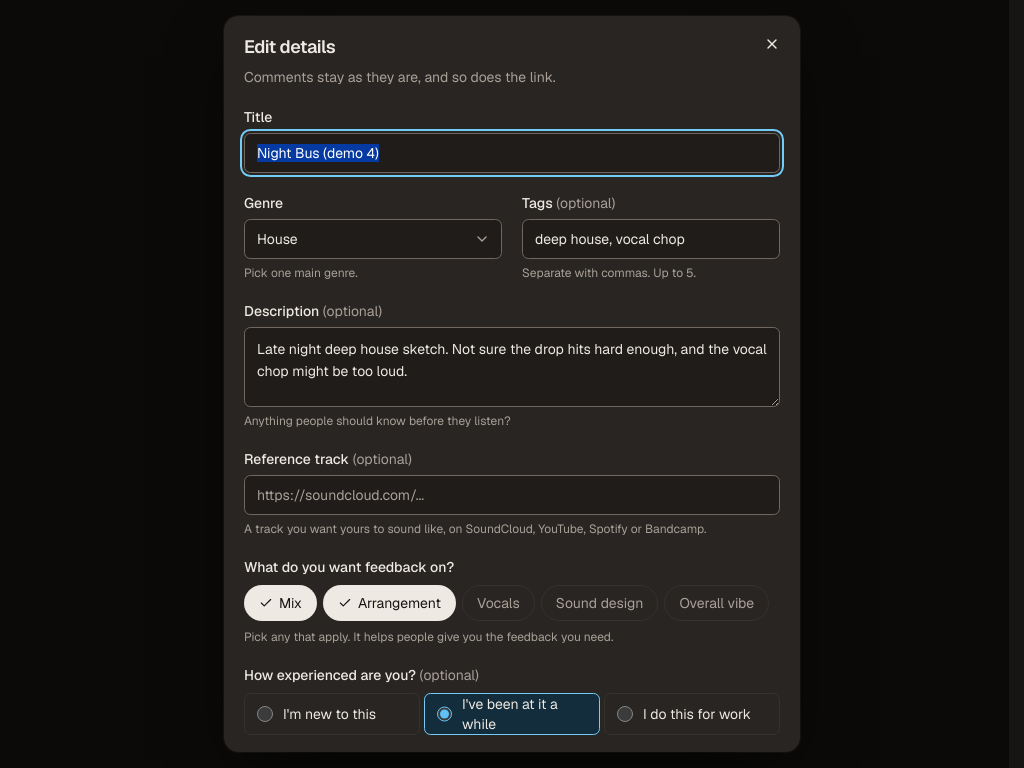
EditTrackDialog › needs a title
The width and height of the screenshot is (1024, 768).
Clear the field labelled "Title" at (512, 152), box [244,132,780,172]
(page scrolled)
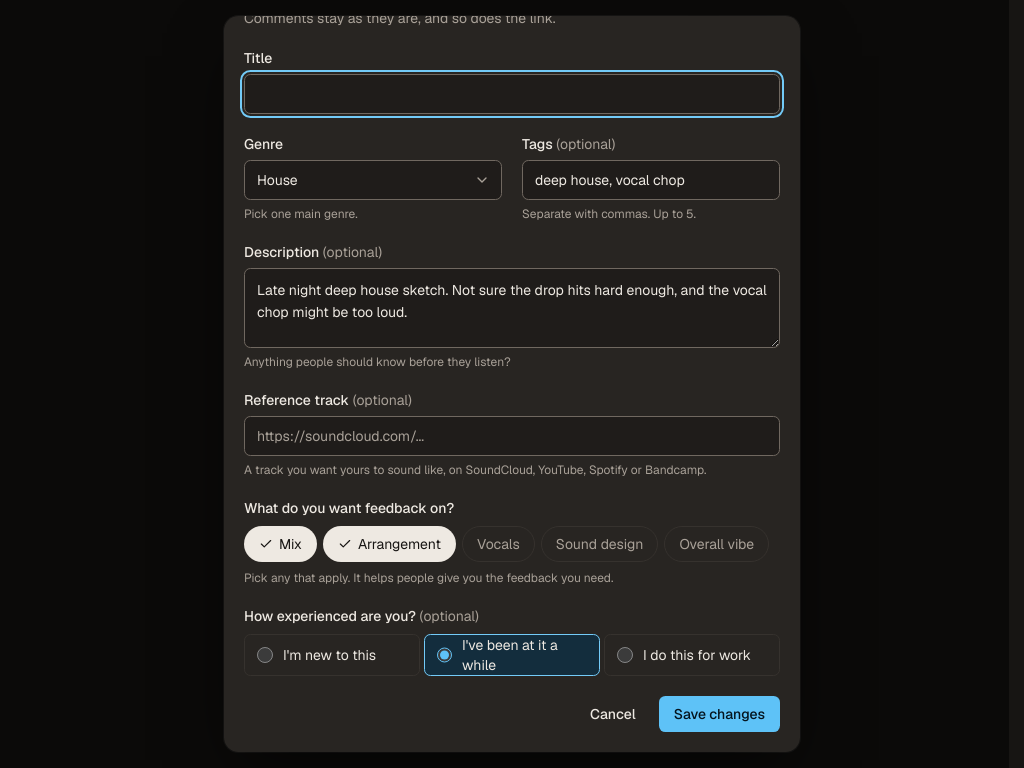
Click the button "Save changes".
click(719, 714)  # box [659,696,780,732]
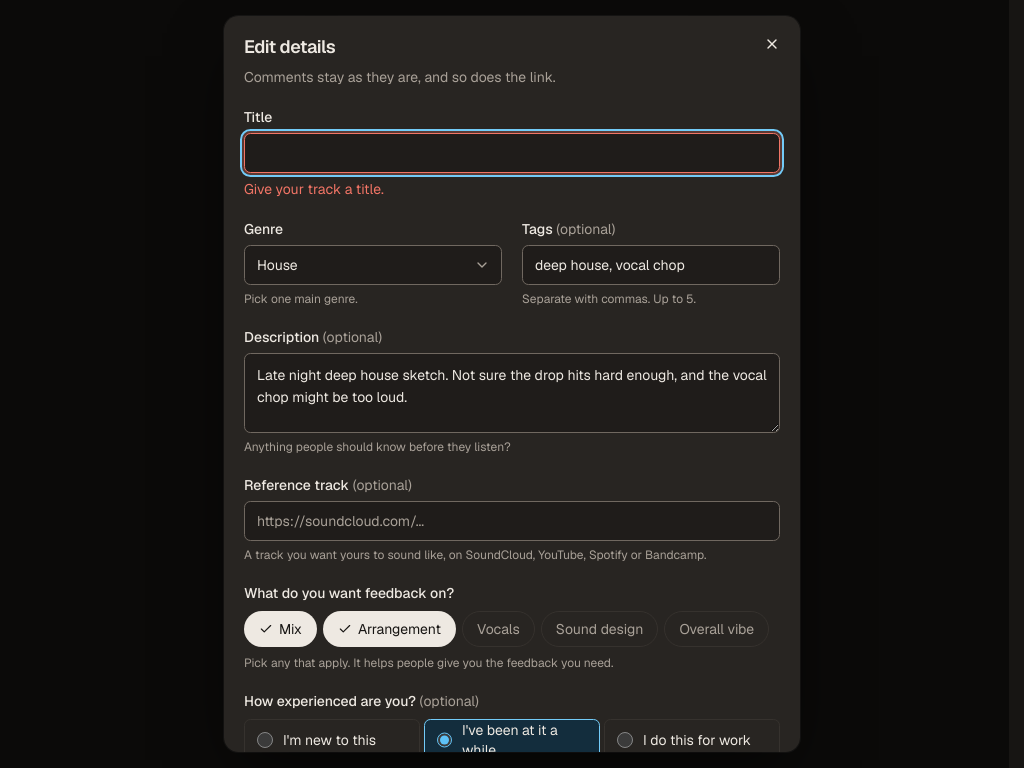
Result: the text "Give your track a title." is shown at [244,180,384,198]
